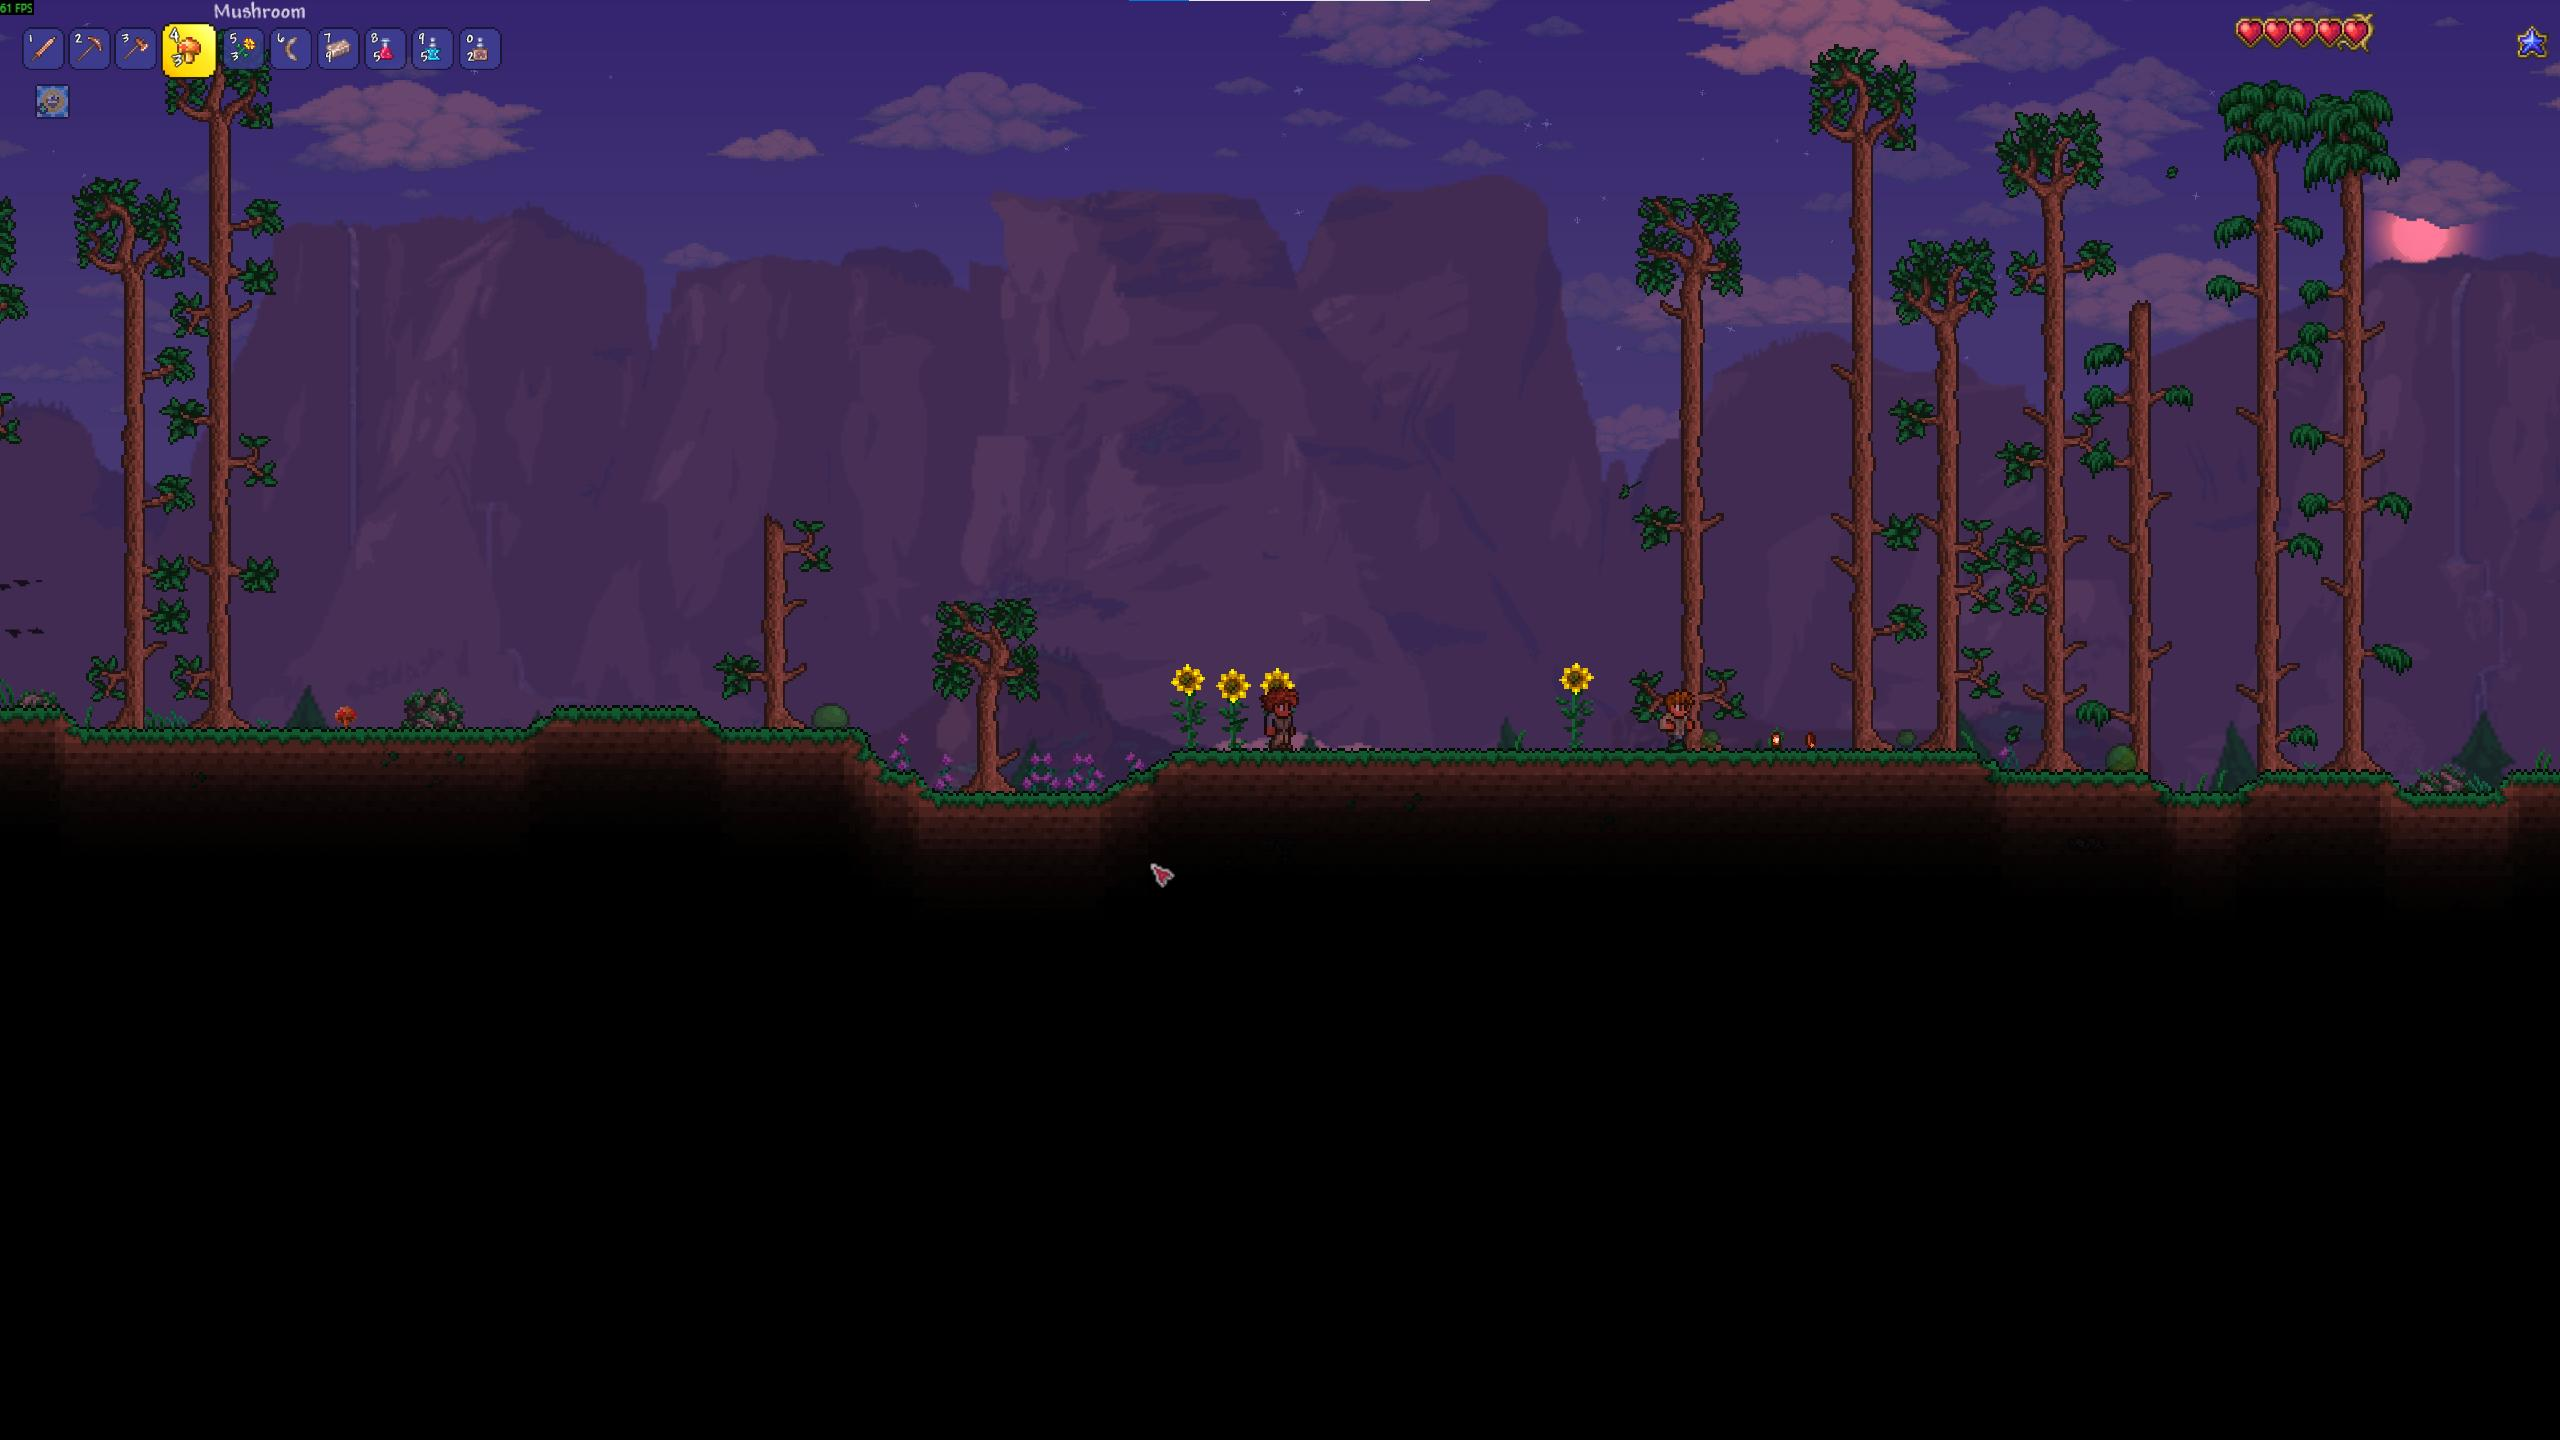Green Slime: (2098, 742, 2143, 774), (811, 702, 853, 731)
